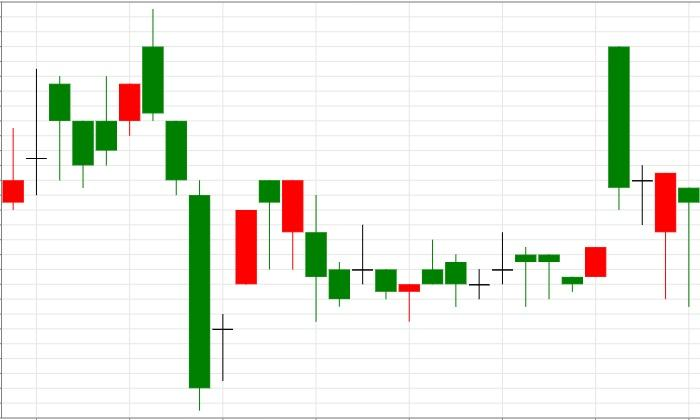hanging_man_fall: (212, 179, 280, 382)
three_black_crows_fall: (48, 8, 211, 411)
